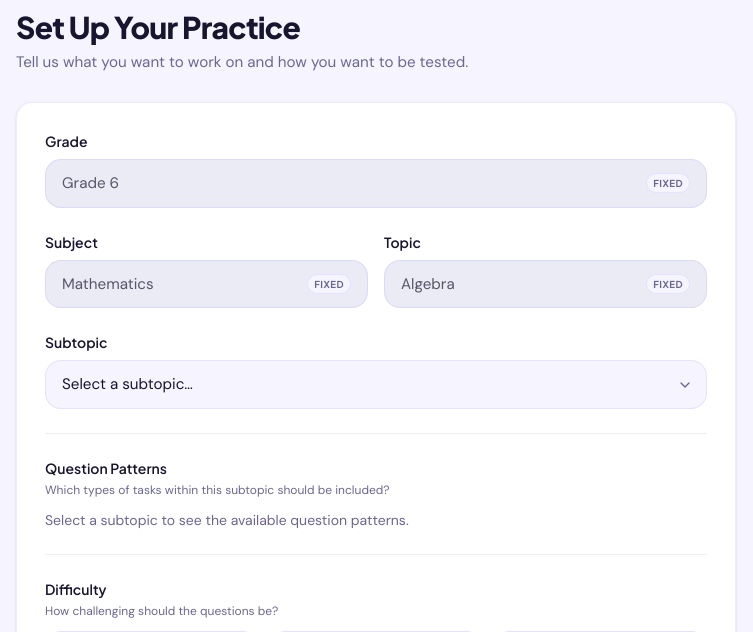
Test: Setup form › loads and displays question patterns once a subtopic is selected
Select "Simplify & Calculate" in the dropdown named "subtopic". click: {"x": 376, "y": 385}
box: [45,360,707,409]
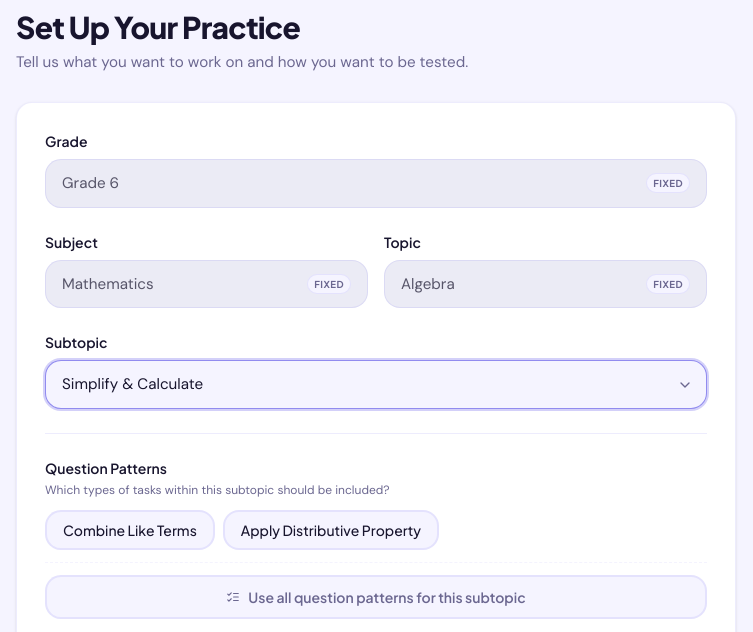
Check: the button "Combine Like Terms" is shown, box [45,510,215,550]
Check: the button "Apply Distributive Property" is shown, box [223,510,439,550]
